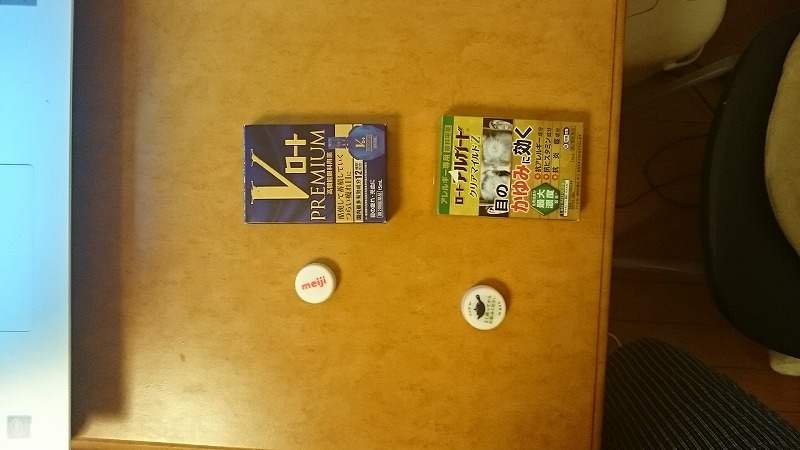A: (456, 281, 510, 335)
B: (292, 263, 343, 307)
C: (434, 114, 586, 224)
D: (238, 118, 393, 231)
